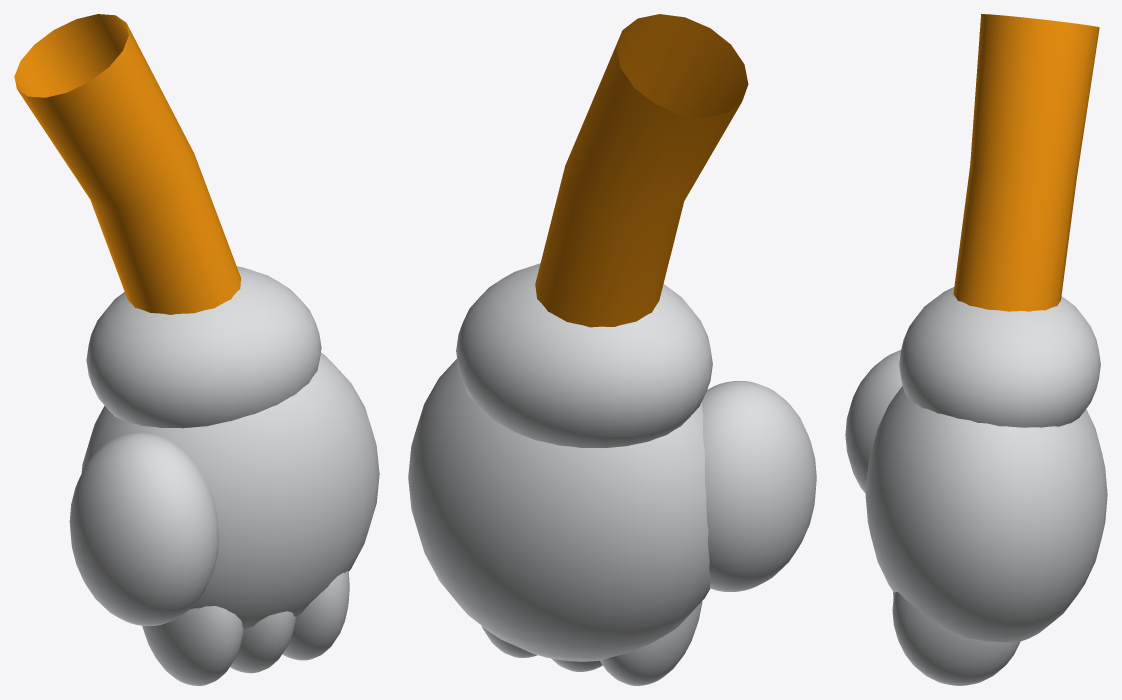
Rendered from tails-arm-r.obj.
The picture shows the model from 3 angles, left to right: view 1: azimuth 30°, elevation 25°; view 2: azimuth 150°, elevation 25°; view 3: azimuth 270°, elevation 25°; orthographic projection. The views are drawn at different scales.
Visible parts, largest first — view 1: glove, arm; view 2: glove, arm; view 3: glove, arm.
Boxes of the visible parts, x1,y1,x2,y2 form: glove: (69, 353, 379, 685); arm: (14, 14, 321, 428); glove: (408, 359, 816, 685); arm: (456, 14, 748, 448); glove: (845, 350, 1107, 685); arm: (899, 14, 1100, 427).
Size of the model in its own units: 0.5101 by 0.9912 by 0.39.
